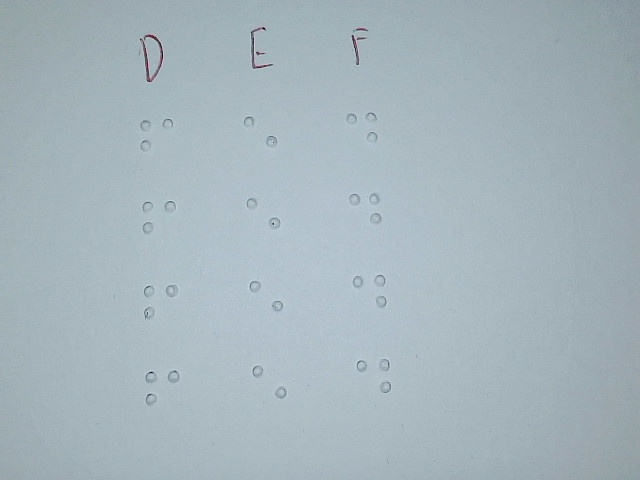D: (343, 101, 380, 168), (346, 181, 383, 248), (351, 263, 388, 330), (355, 348, 392, 415)
E: (240, 104, 281, 180), (243, 184, 284, 260), (247, 268, 288, 344), (249, 353, 290, 429)
F: (137, 107, 177, 176), (139, 188, 179, 257), (140, 272, 180, 341), (142, 358, 182, 427)
